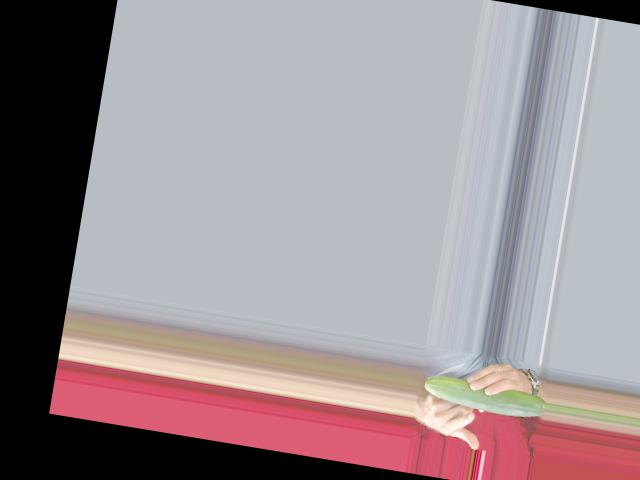cucumber: (422, 372, 548, 421)
